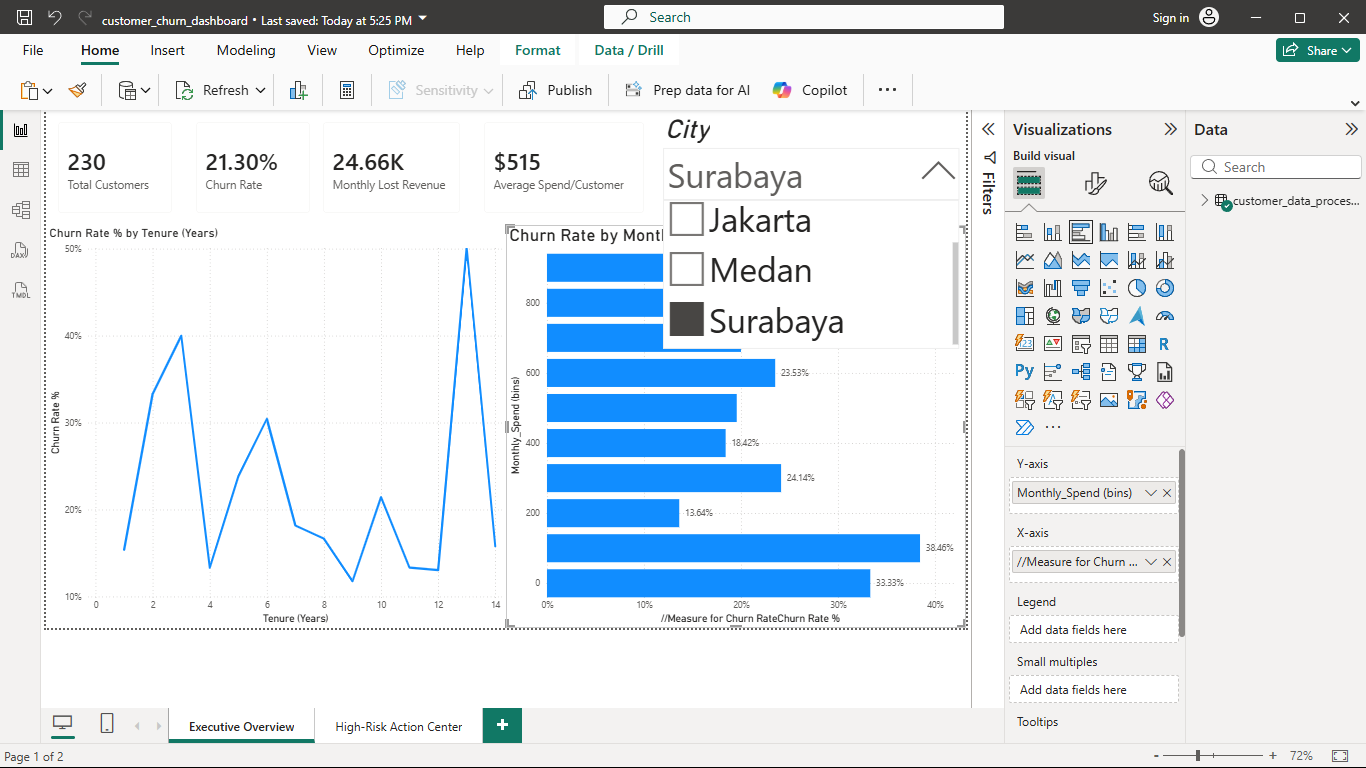

The page's visual inventory and layout, read from the dashboard file:
{"tool":"powerbi","page":{"name":"Executive Overview","canvas":[1280,720],"ordinal":0},"visuals":[{"type":"cardVisual","fields":{"Data":["Count(customer_data_processed.CustomerID)"]},"box":[0,0,192,160],"z":0},{"type":"cardVisual","fields":{"Data":["customer_data_processed.//Measure for Churn RateChurn Rate %"]},"box":[192,0,192,160],"z":1000},{"type":"cardVisual","fields":{"Data":["Avg(customer_data_processed.Monthly_Spend)"]},"box":[592,0,256,160],"z":2000},{"type":"cardVisual","fields":{"Data":["customer_data_processed.Lost Revenue"]},"box":[368,0,224,160],"z":3000},{"type":"lineChart","fields":{"Y":["customer_data_processed.//Measure for Churn RateChurn Rate %"],"Category":["customer_data_processed.Years"]},"box":[0,160,640,560],"z":4000},{"type":"clusteredBarChart","title":"Churn Rate by Monthly Spend","fields":{"Category":["customer_data_processed.Monthly_Spend (bins)"],"Y":["customer_data_processed.//Measure for Churn RateChurn Rate %"]},"box":[640,160,640,560],"z":5000},{"type":"slicer","fields":{"Values":["customer_data_processed.City"]},"box":[848,0,432,160],"z":6000}]}

Visuals, with their boxes on the page's 1280x720 design canvas (x1, y1, x2, y2). These are canvas units, not pixel positions in the 1366x768 screenshot, which may show the page scaled, cropped or inside an application window:
cardVisual - Count(customer_data_processed.CustomerID): select_region(0, 0, 192, 160)
cardVisual - customer_data_processed.//Measure for Churn RateChurn Rate %: select_region(192, 0, 384, 160)
cardVisual - Avg(customer_data_processed.Monthly_Spend): select_region(592, 0, 848, 160)
cardVisual - customer_data_processed.Lost Revenue: select_region(368, 0, 592, 160)
lineChart - customer_data_processed.//Measure for Churn RateChurn Rate % x customer_data_processed.Years: select_region(0, 160, 640, 720)
"Churn Rate by Monthly Spend" clusteredBarChart: select_region(640, 160, 1280, 720)
slicer - customer_data_processed.City: select_region(848, 0, 1280, 160)
